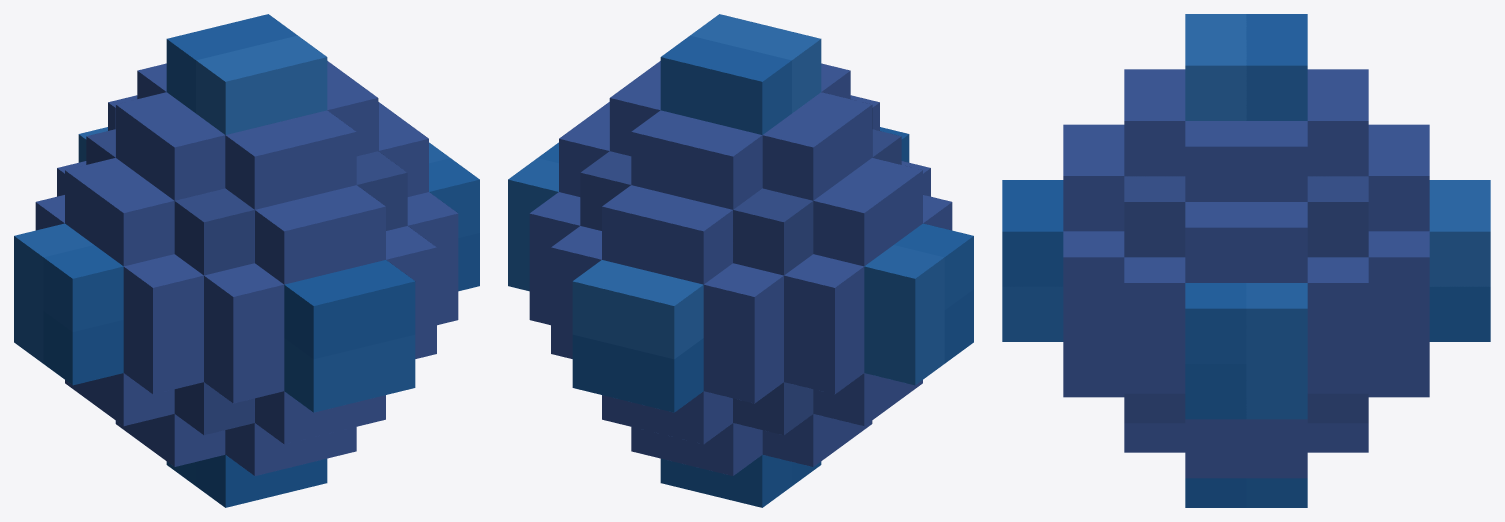
File: Shaman Manual Outer Projectile-transparent.obj
The picture shows the model from 3 angles, left to right: view 1: azimuth 30°, elevation 25°; view 2: azimuth 150°, elevation 25°; view 3: azimuth 270°, elevation 25°; orthographic projection. The views are drawn at different scales.
Parts seen in each view (by area): view 1: Shaman Manual Outer Projectile-transparent; view 2: Shaman Manual Outer Projectile-transparent; view 3: Shaman Manual Outer Projectile-transparent.
Boxes of the visible parts, bbox=[...] form: Shaman Manual Outer Projectile-transparent: bbox=[14, 14, 479, 507]; Shaman Manual Outer Projectile-transparent: bbox=[508, 14, 973, 507]; Shaman Manual Outer Projectile-transparent: bbox=[1002, 14, 1490, 507].
Size of the model in its own units: 8 by 8 by 8.
Materials: 1 (1 with a texture image).
